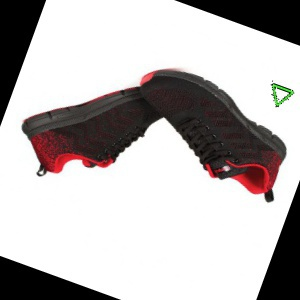triangle: (269, 80, 296, 109)
